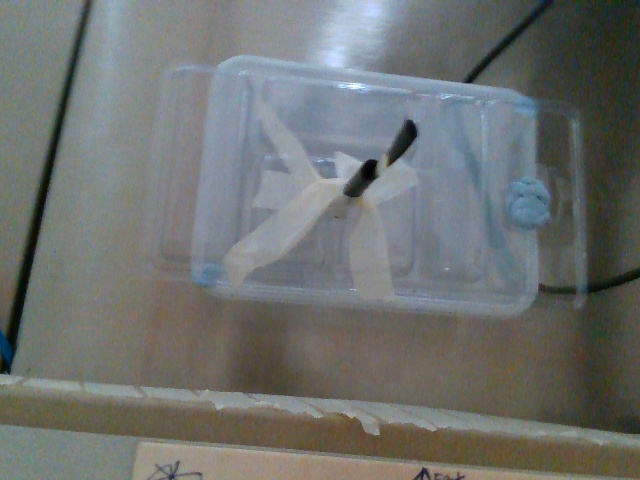test_strip: (373, 117, 418, 175)
